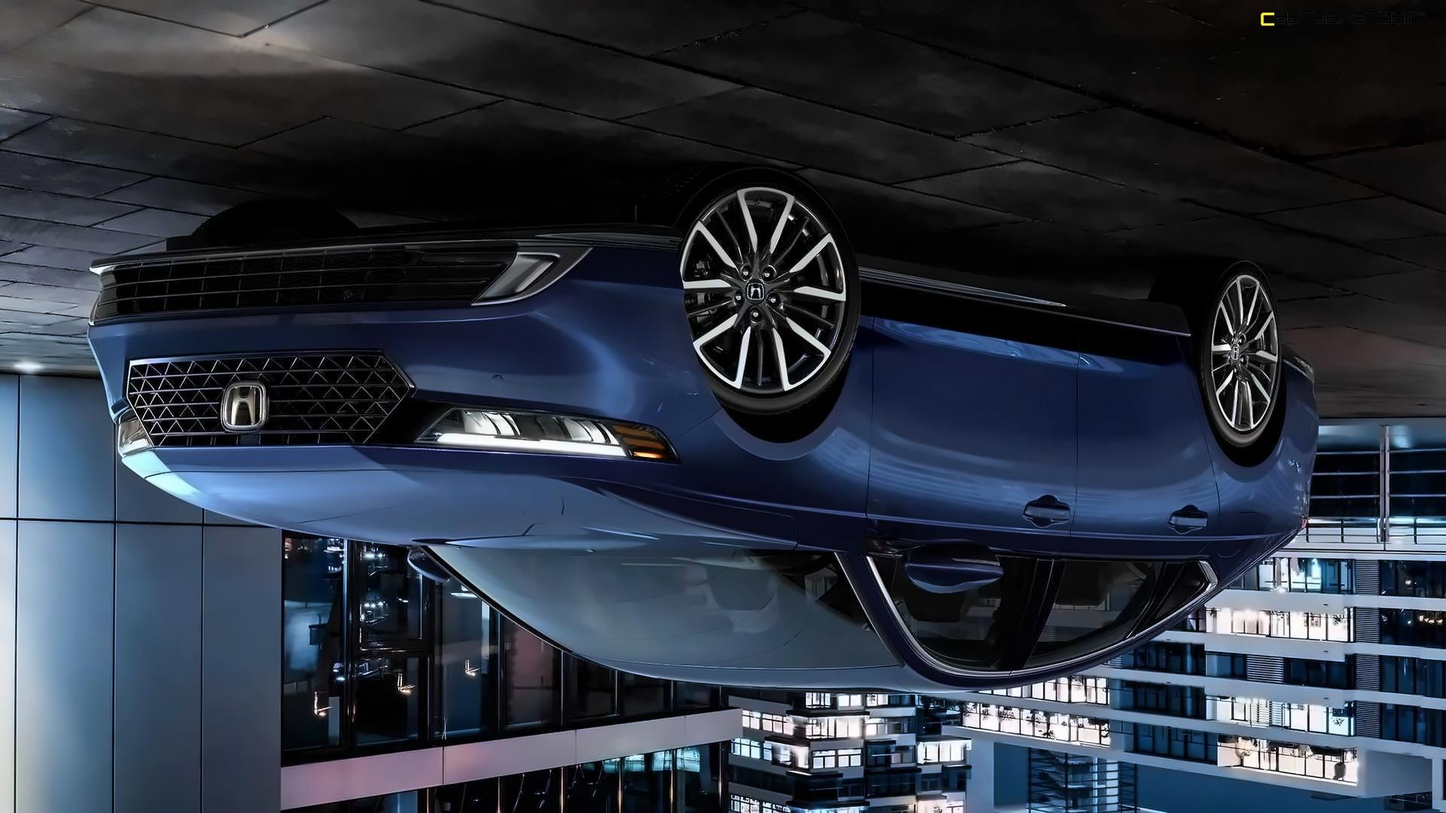Car hood: (119, 456, 795, 548)
Driver-s door - -F-R-: (841, 220, 1090, 706)
Fender - -F-R-: (637, 290, 877, 587)
Fender - -R-R-: (1181, 379, 1317, 571)
Front bumper: (84, 212, 724, 451)
Headlight - -L-: (111, 412, 157, 459)
Headlight - -R-: (406, 398, 677, 464)
Passenger-s door - -R-R-: (1011, 254, 1218, 703)
Side bumper - -R-: (842, 226, 1217, 404)
Side mirror - -R-: (880, 530, 1002, 596)
